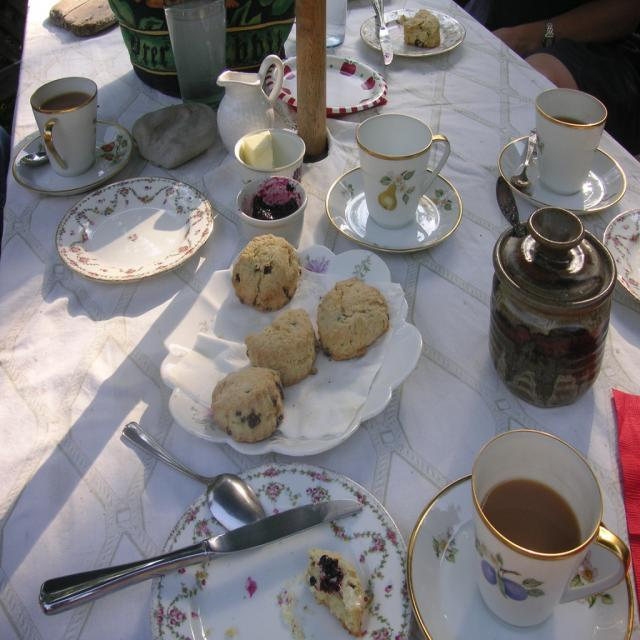ceramic plate: (46, 169, 222, 288)
